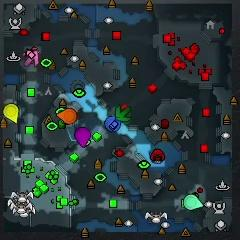p1: (105, 116, 120, 132)
p2: (184, 194, 203, 210)
p3: (75, 127, 90, 148)
p4: (3, 104, 18, 123)
p5: (56, 109, 77, 124)
x1: (23, 50, 39, 67)
x4: (115, 106, 131, 121)
